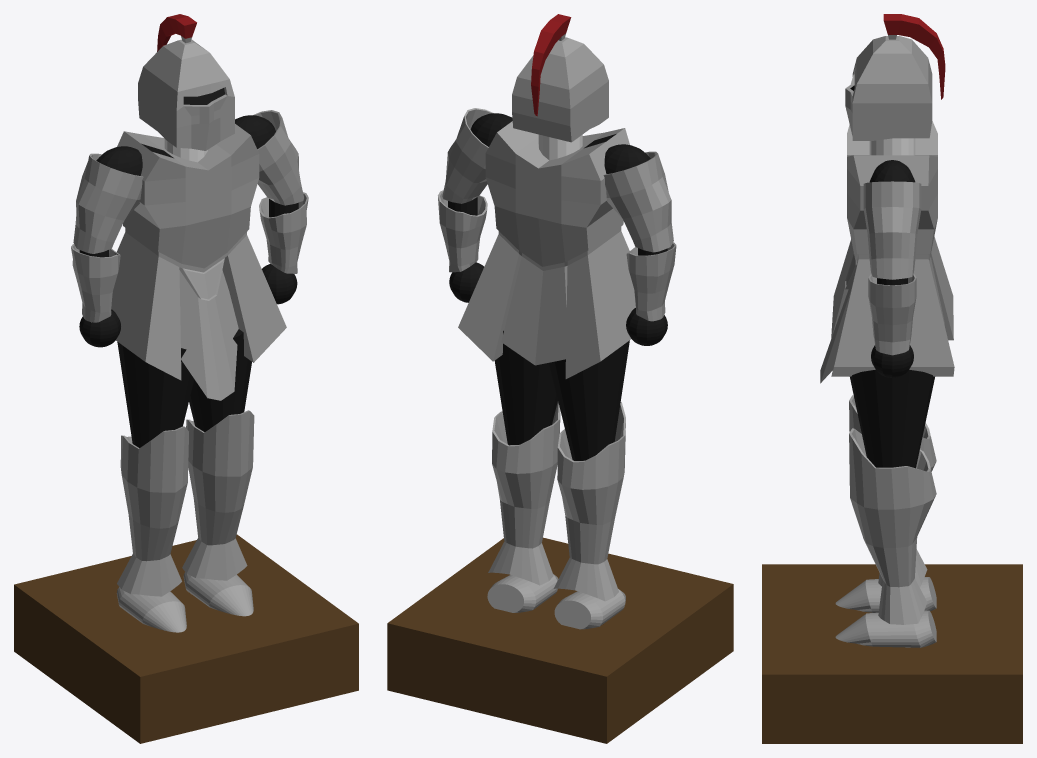
The model's file is Knight_Armor.glb.
The picture shows the model from 3 angles, left to right: view 1: azimuth 30°, elevation 25°; view 2: azimuth 150°, elevation 25°; view 3: azimuth 270°, elevation 25°; orthographic projection. The views are drawn at different scales.
Parts seen in each view (by area): view 1: Elbow; view 2: Elbow; view 3: Elbow.
Part boxes in pixels (x1,y1,x2,y2): Elbow: [14, 14, 358, 743]; Elbow: [387, 14, 733, 743]; Elbow: [762, 14, 1022, 743].
Size of the model in its own units: 7.28 by 19.4 by 6.83.
